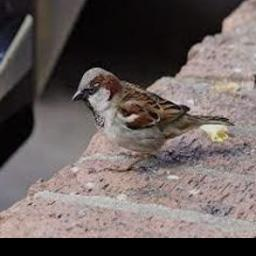Sparrow: (71, 66, 234, 170)
